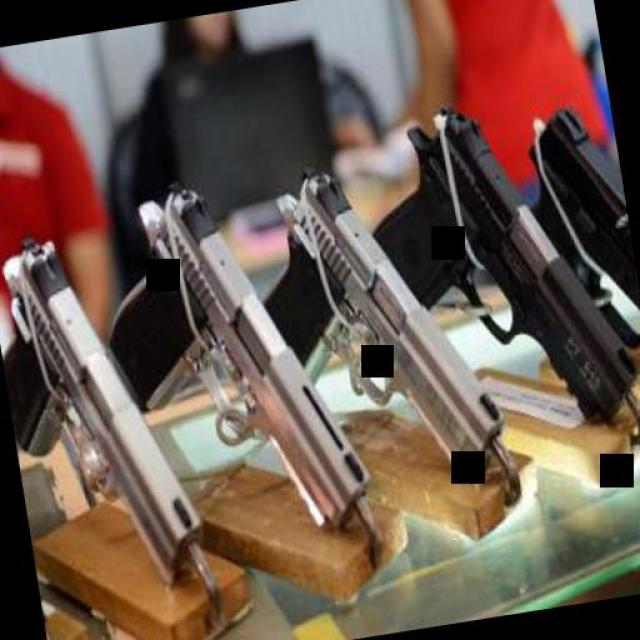gun: (82, 158, 378, 568), (349, 74, 640, 452), (242, 138, 516, 512), (0, 208, 216, 620), (514, 99, 640, 360)
